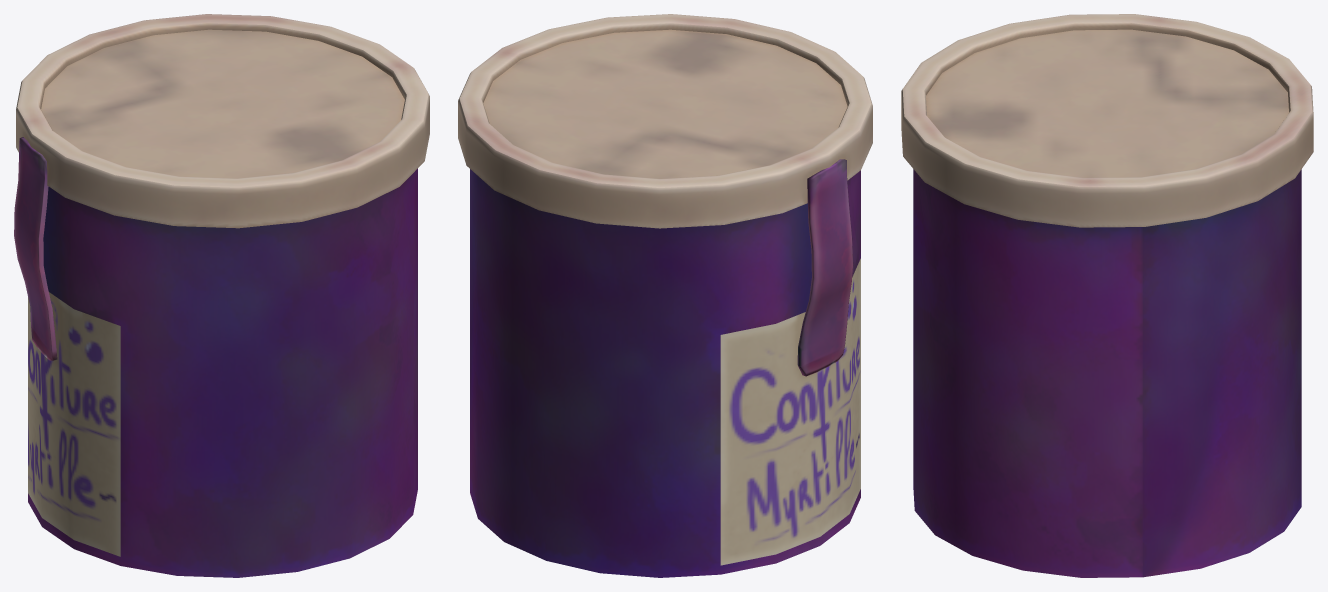
File: SM_FoodPot_08.fbx
3 renders of one model, left to right at view 1: azimuth 30°, elevation 25°; view 2: azimuth 150°, elevation 25°; view 3: azimuth 270°, elevation 25°, orthographic.
Parts seen in each view (by area): view 1: SM_FoodPot_08_LOD0; view 2: SM_FoodPot_08_LOD0; view 3: SM_FoodPot_08_LOD0.
Boxes of the visible parts, box(x1,y1,x2,y2) form: SM_FoodPot_08_LOD0: box(14, 14, 429, 577); SM_FoodPot_08_LOD0: box(458, 14, 872, 577); SM_FoodPot_08_LOD0: box(901, 14, 1313, 577).
Size of the model in its own units: 12.41 by 12.15 by 12.88.
Materials: 2 (2 with a texture image).
